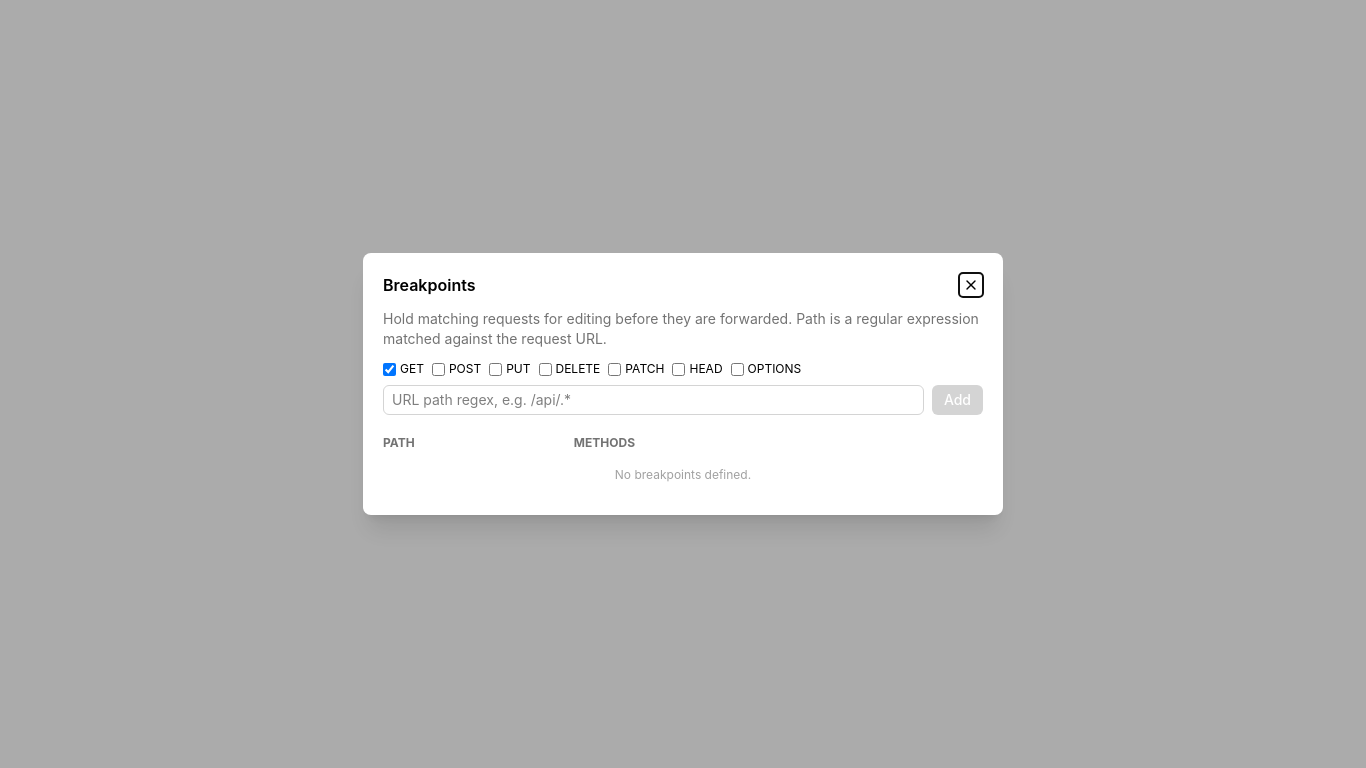
Test: BreakpointsDialog › adds a rule with the chosen methods (Enter or Add), then clears the input
Expected: the button "Add" is disabled, [932,385,983,415]
Click the checkbox labelled "POST" at {"x": 438, "y": 369}, box [432,362,445,376]
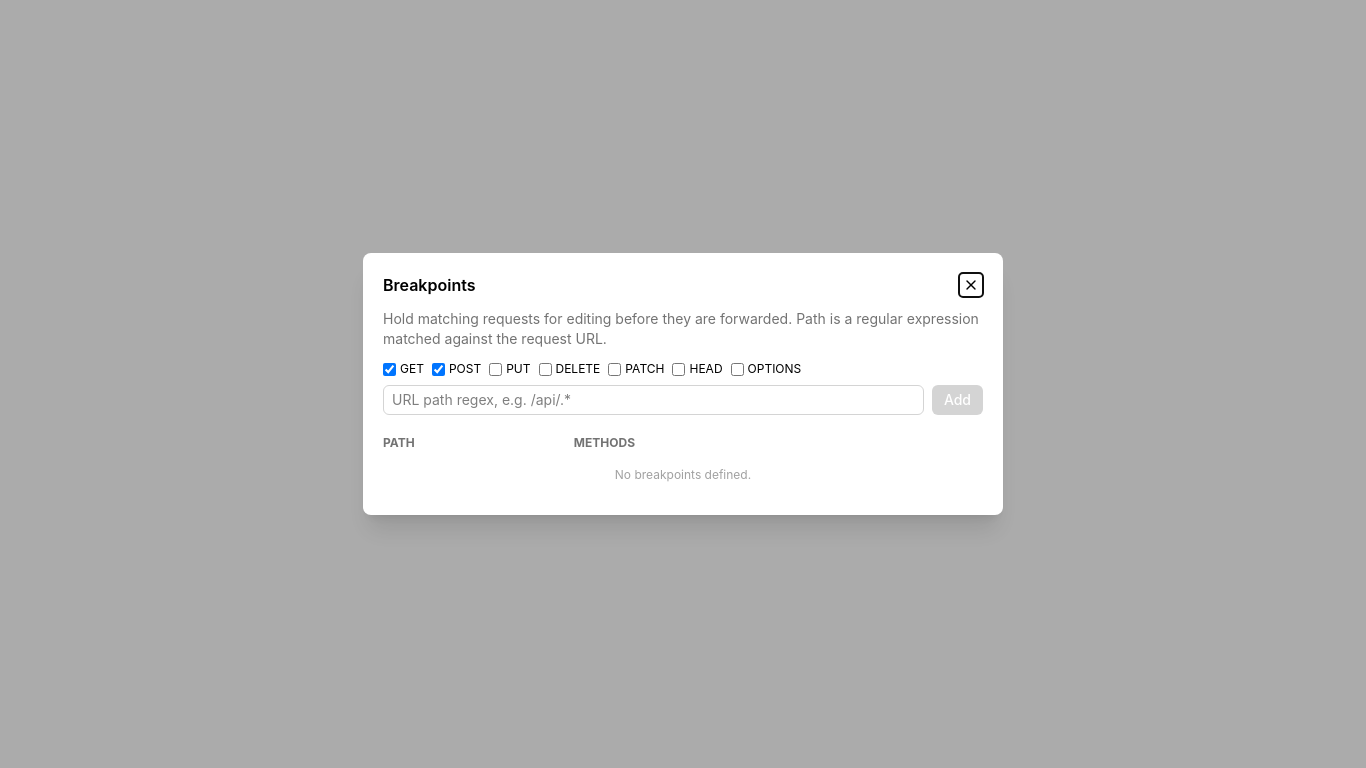
Type "/api/.*" into the field labelled "URL path regex" at {"x": 653, "y": 400}, box [383,385,924,415]
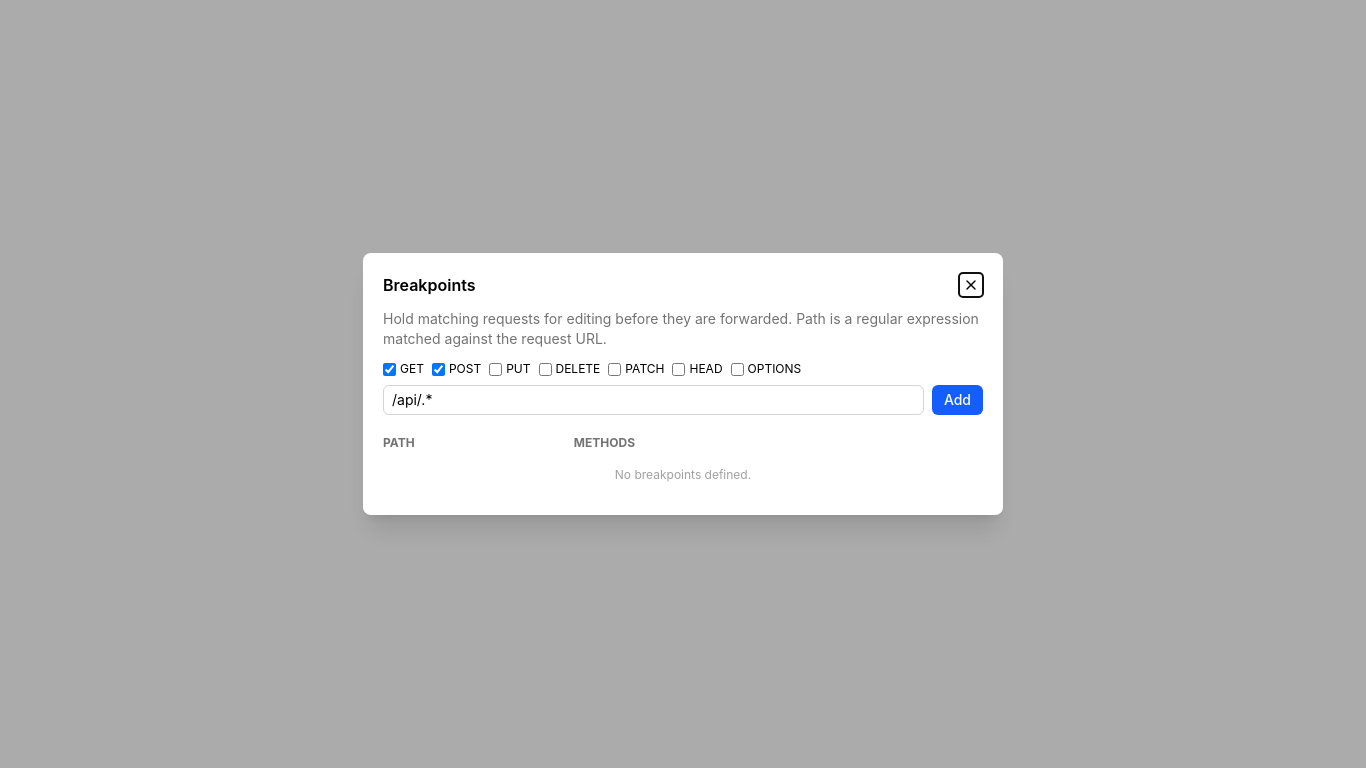
Press Enter in the field named "URL path regex", box [383,385,924,415]
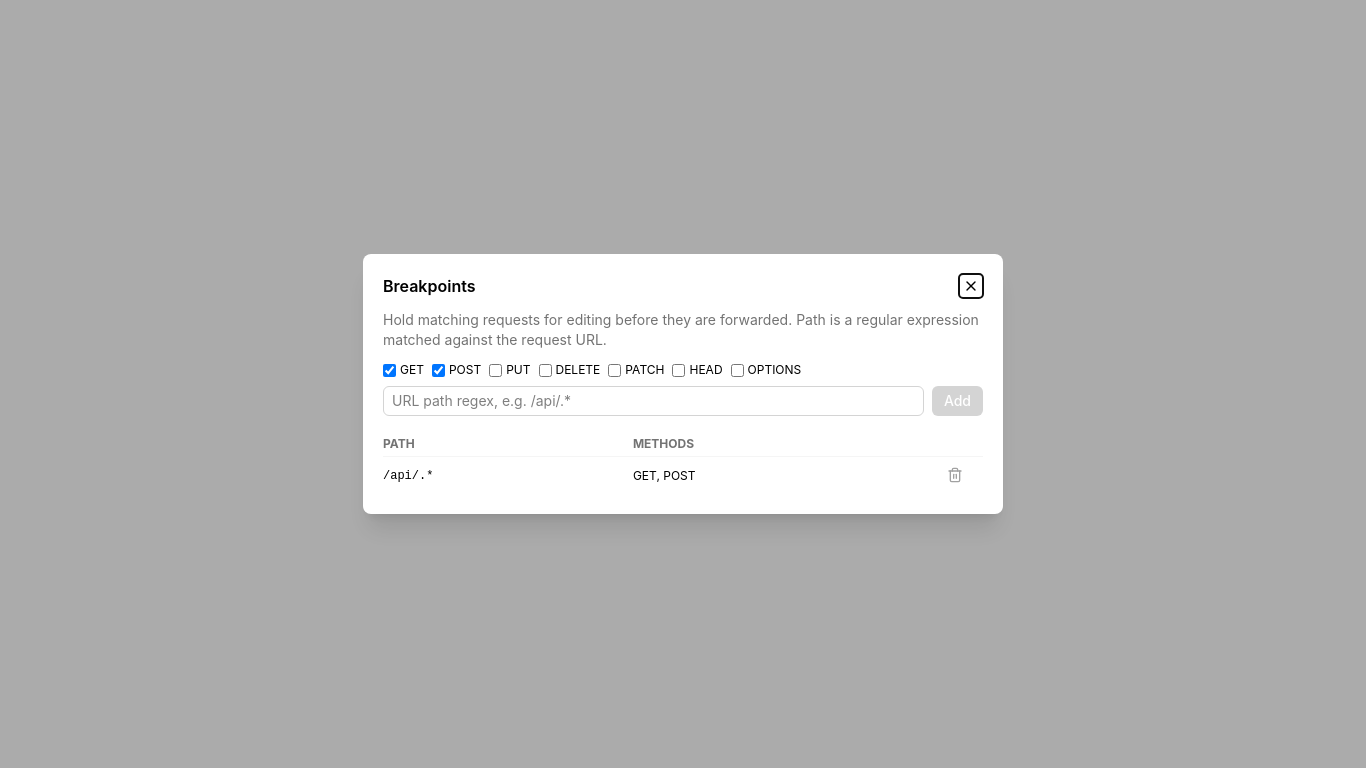
Expected: the field labelled "URL path regex" is empty, [383,386,924,416]
Expected: the text "GET, POST" is shown, [633,456,943,494]
